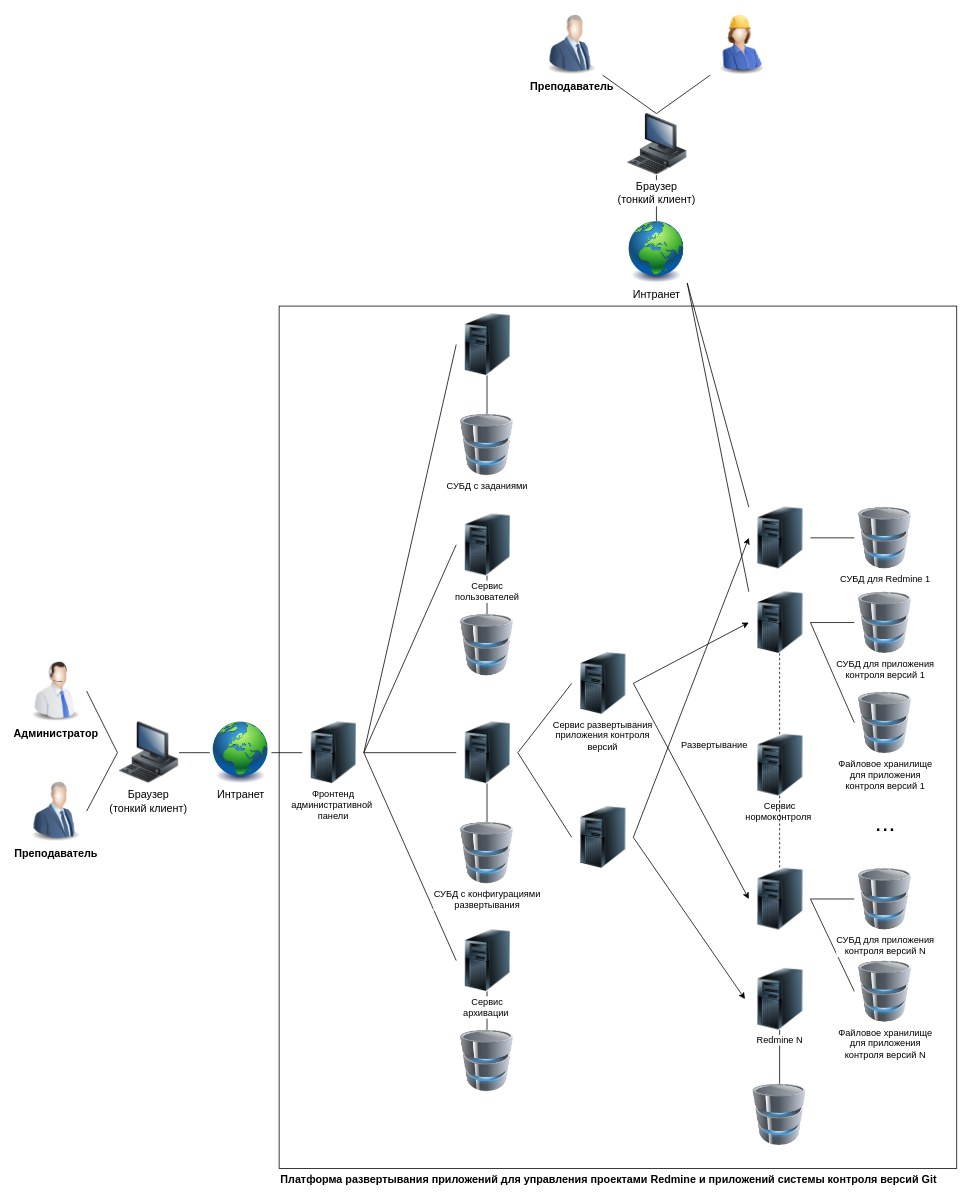
Image size: 970x1204. Some labels were removed from this diagram. The centre of each missing label's shape, as x and y in pixels:
Redmine 1: the point at 779,537
Приложение системы контроля версий 1: the point at 779,622
Приложение системы контроля версий N: the point at 779,898
Сервис заданий: the point at 486,344
Сервис конфигураций развертывания: the point at 486,752
Сервис развертывания Redmine: the point at 602,837
Студент: the point at 741,44
СУБД для Redmine N: the point at 779,1114
СУБД с ролями пользователей: the point at 486,644
Хранилище архивов заданий и решений: the point at 486,1060
